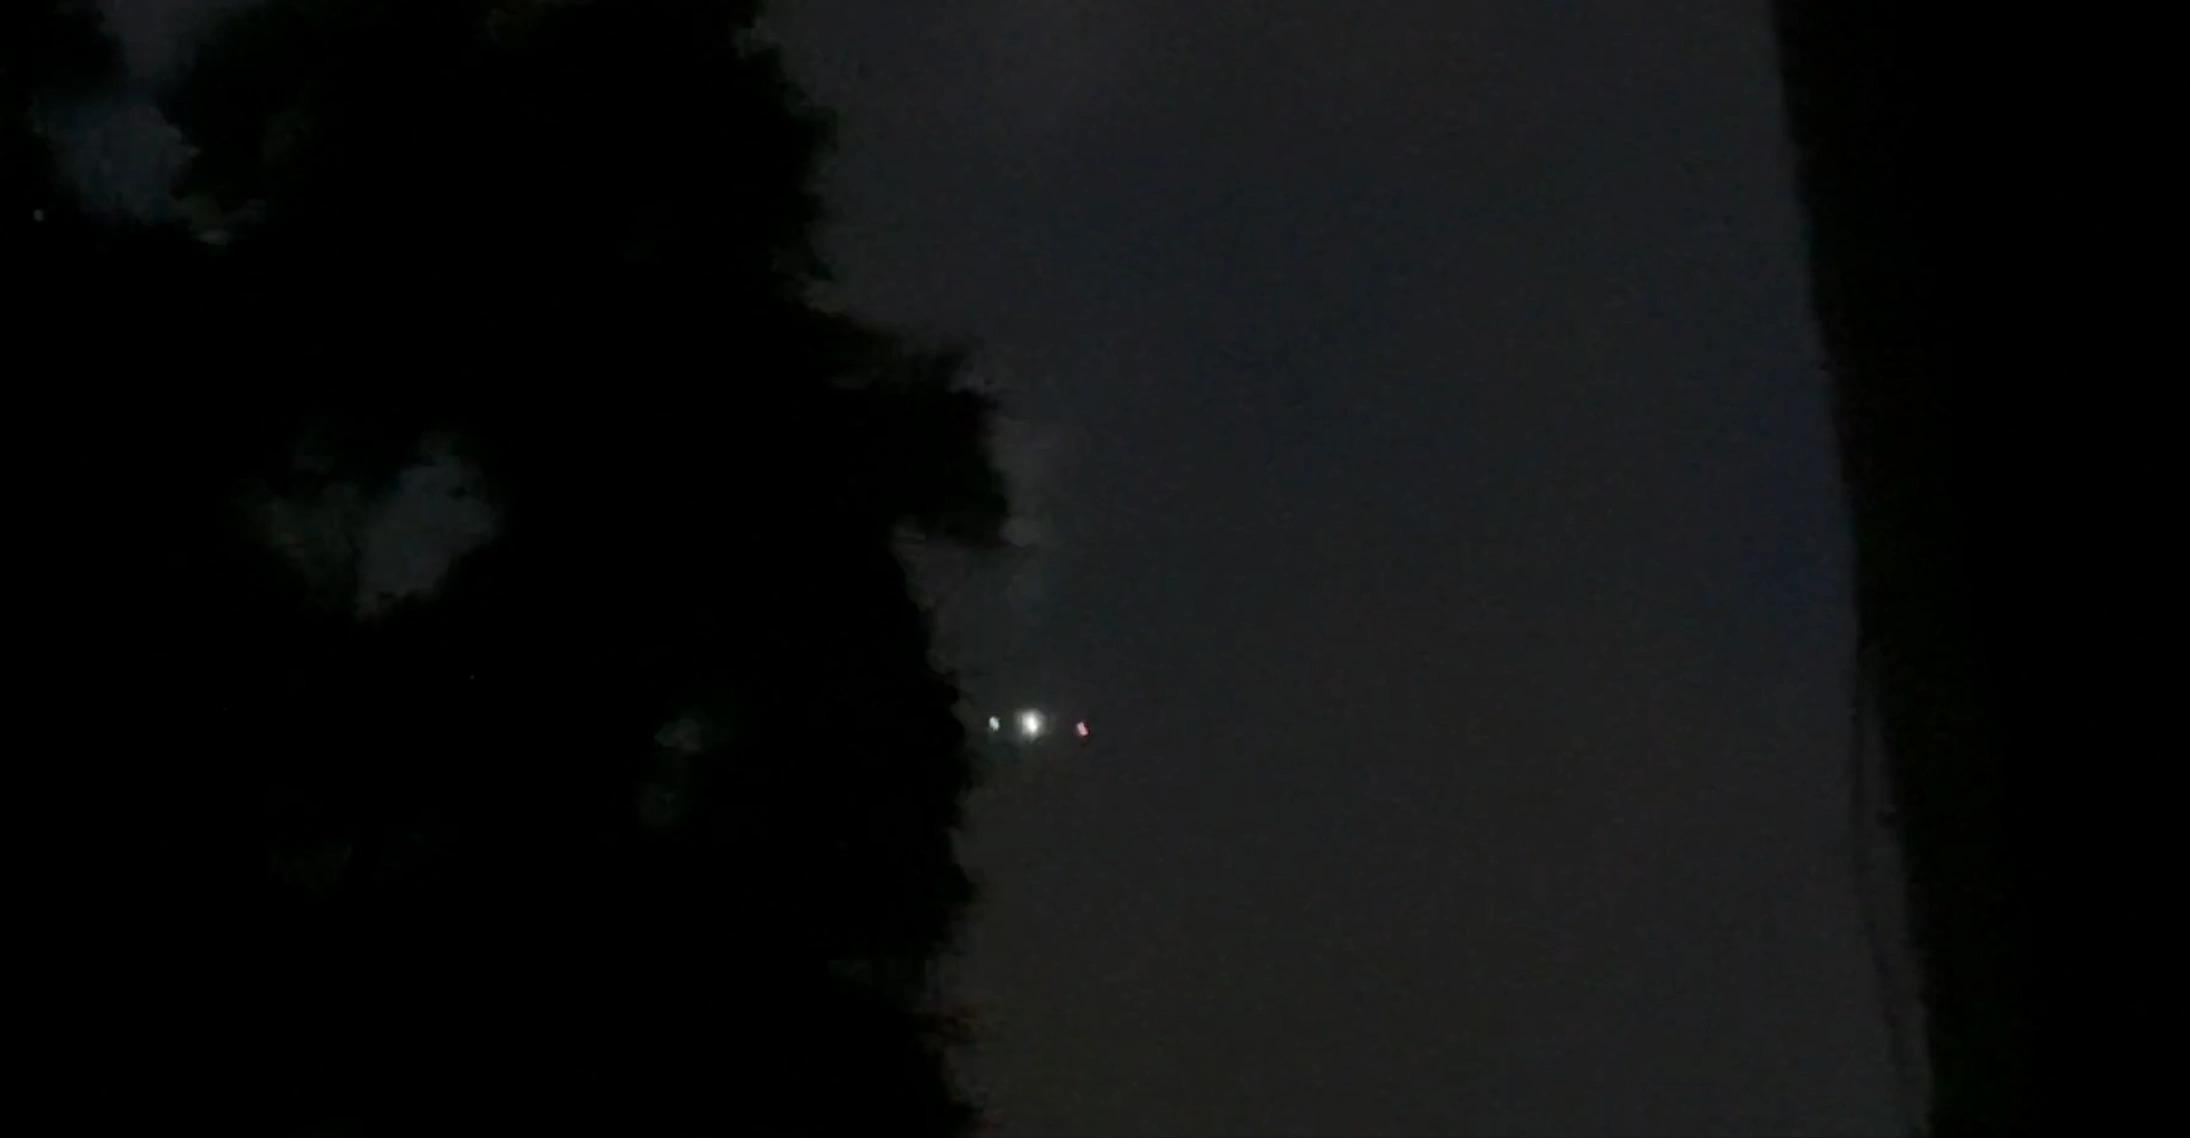Plane: (962, 691, 1125, 775)
